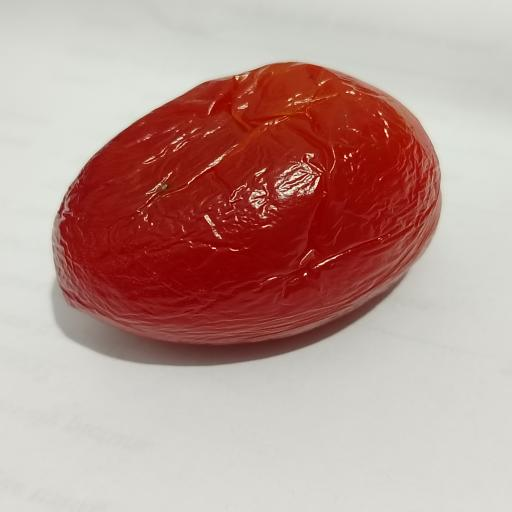spoiled: (53, 63, 440, 344)
